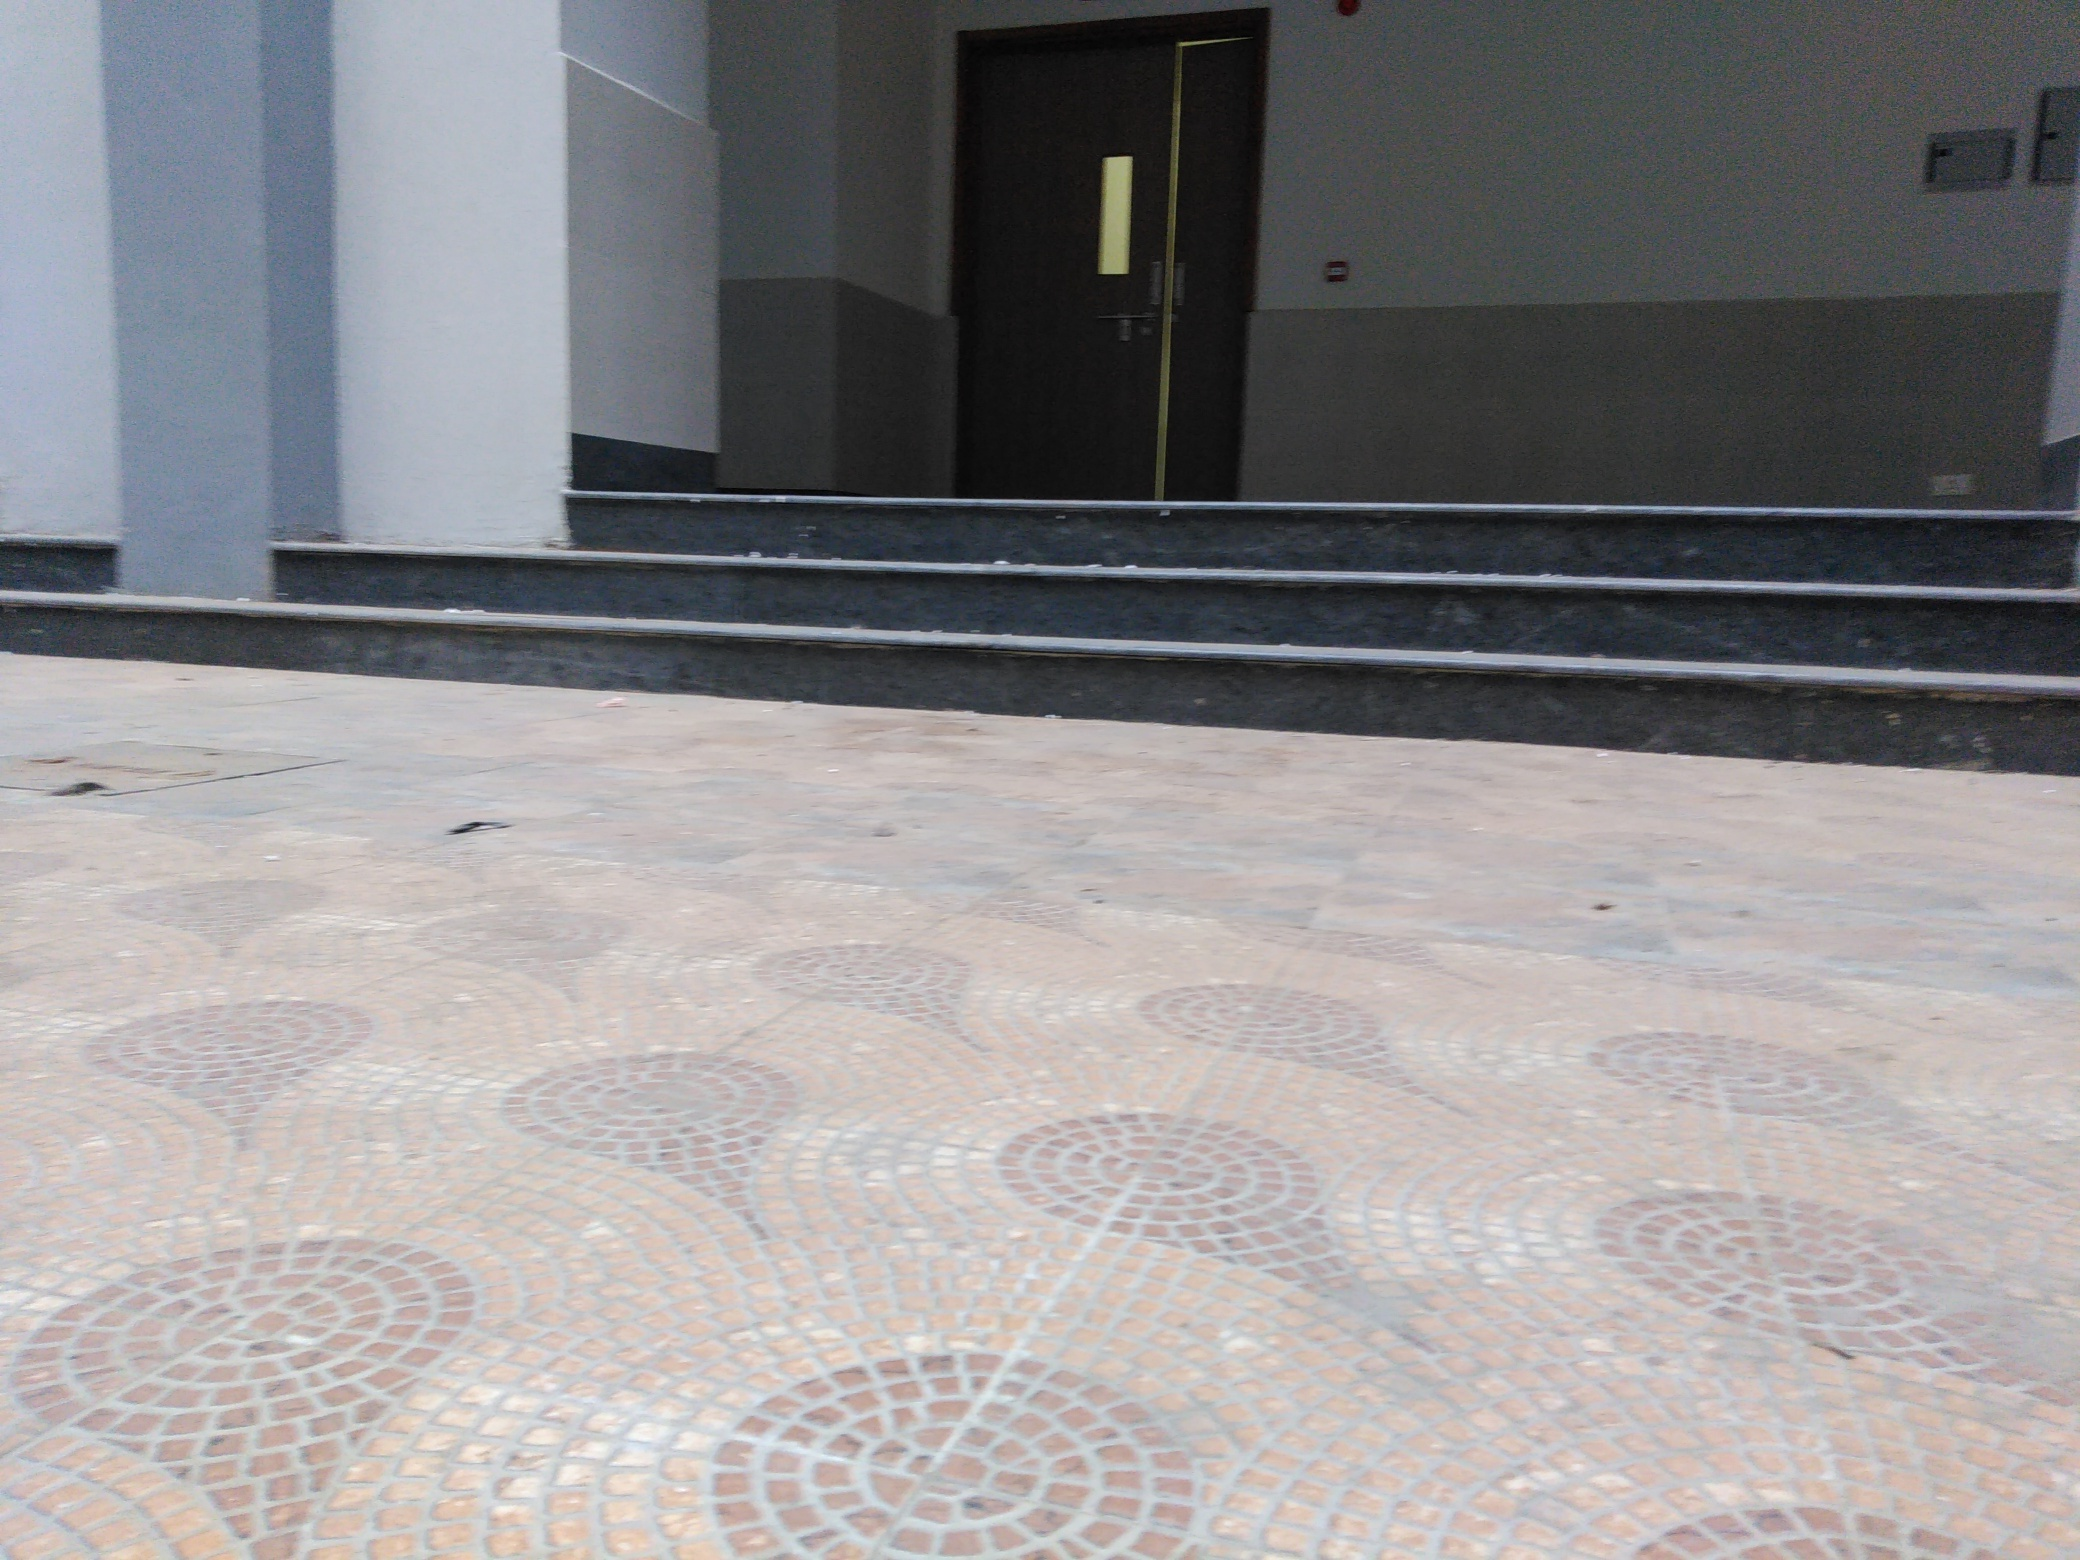stairs_up: (380, 493, 2078, 714)
